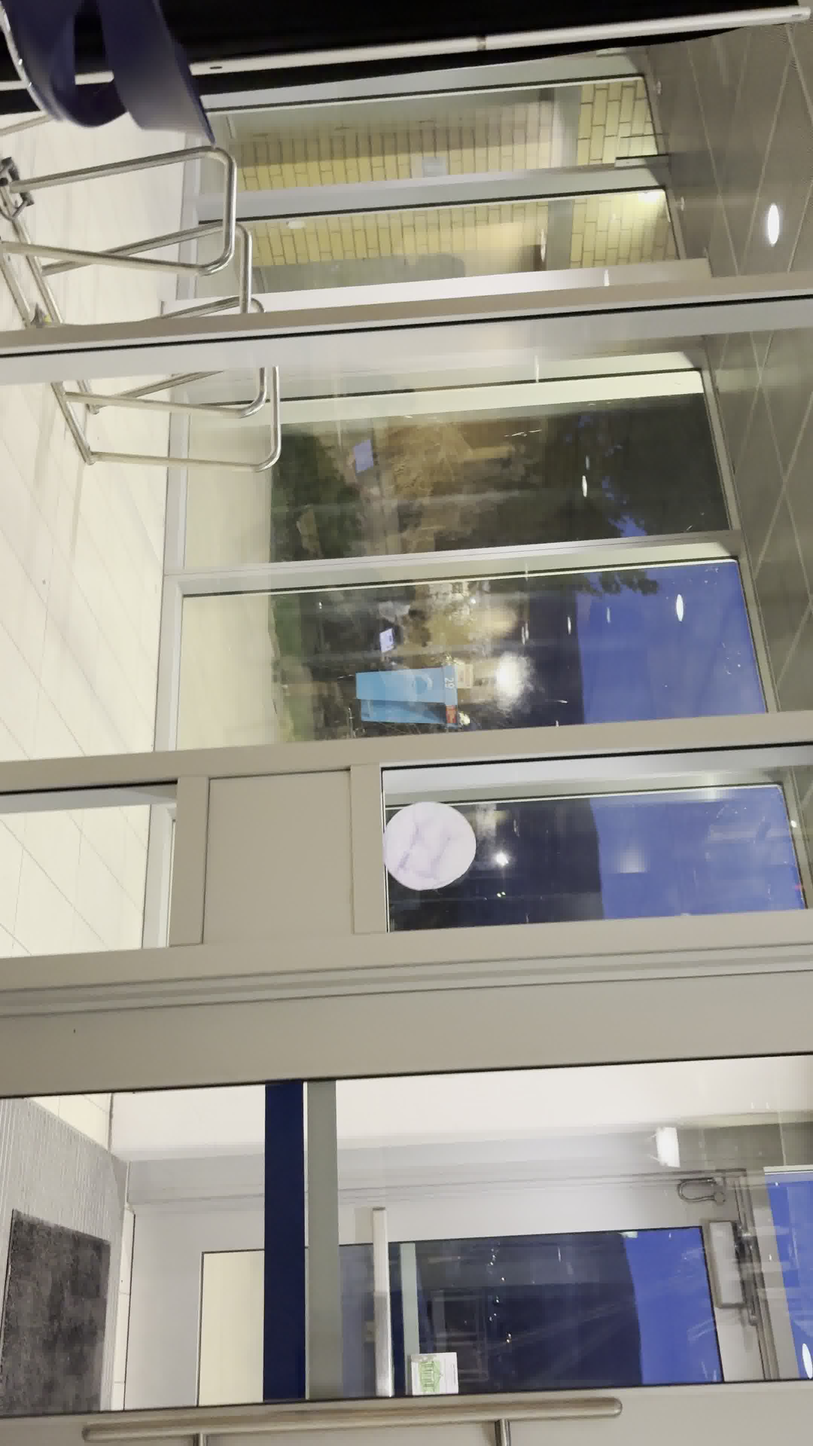Target: (381, 800, 478, 892)
